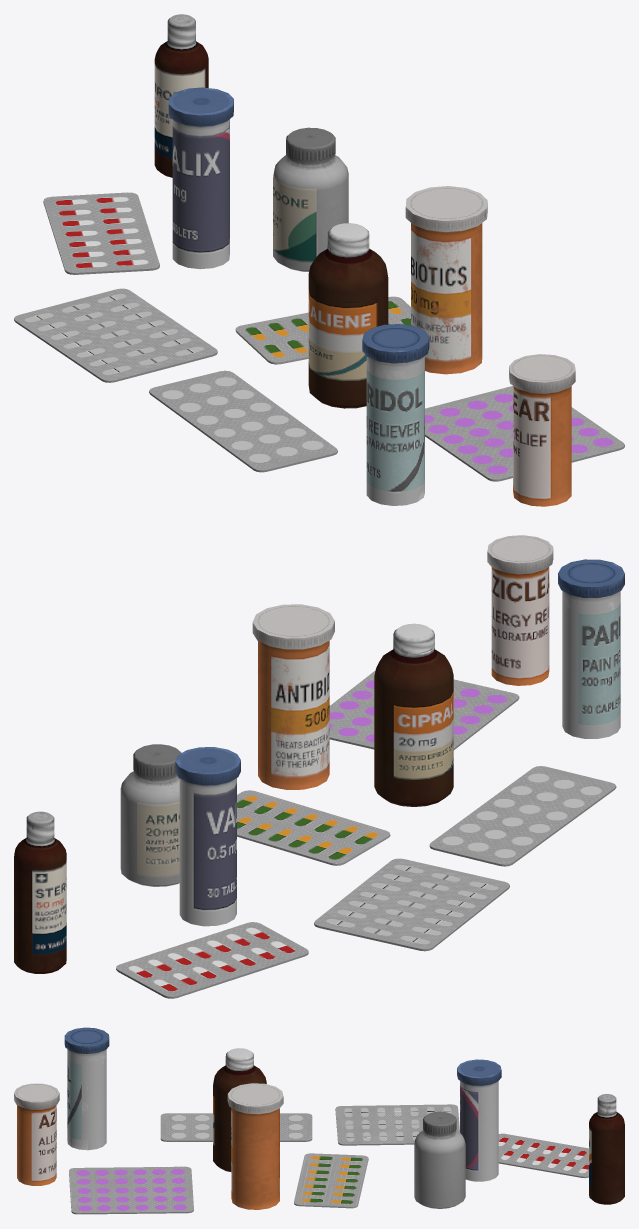
File: HH_Drug_Packaging_Kit_06.fbx
3 renders of one model, top to bottom at view 1: azimuth 30°, elevation 25°; view 2: azimuth 150°, elevation 25°; view 3: azimuth 270°, elevation 25°, orthographic. The views are drawn at different scales.
Parts seen in each view (by area): view 1: HH_Drug_Packaging_Kit_06_LOD0; view 2: HH_Drug_Packaging_Kit_06_LOD0; view 3: HH_Drug_Packaging_Kit_06_LOD0.
Boxes of the visible parts, x1,y1,x2,y2 form: HH_Drug_Packaging_Kit_06_LOD0: [14, 14, 624, 506]; HH_Drug_Packaging_Kit_06_LOD0: [14, 535, 624, 998]; HH_Drug_Packaging_Kit_06_LOD0: [14, 1027, 624, 1214].
Size of what is drawn, in the model's own units: 32.01 by 15.18 by 75.99.
